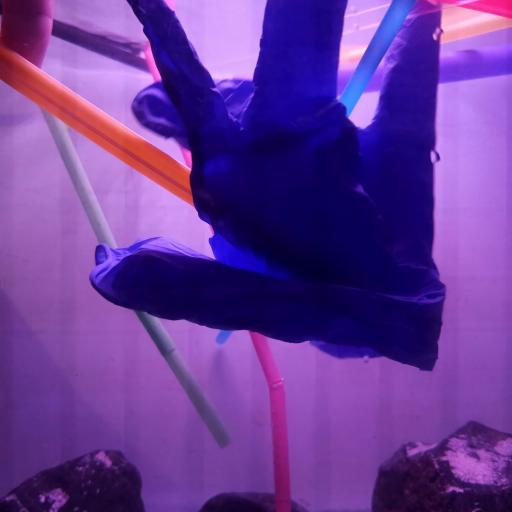glove: (89, 0, 449, 377)
plastic_straw: (40, 106, 234, 453), (0, 44, 195, 209), (339, 12, 512, 70), (337, 42, 512, 97), (339, 0, 414, 119), (247, 329, 293, 512), (144, 49, 194, 168), (52, 19, 151, 74), (342, 0, 473, 37)
